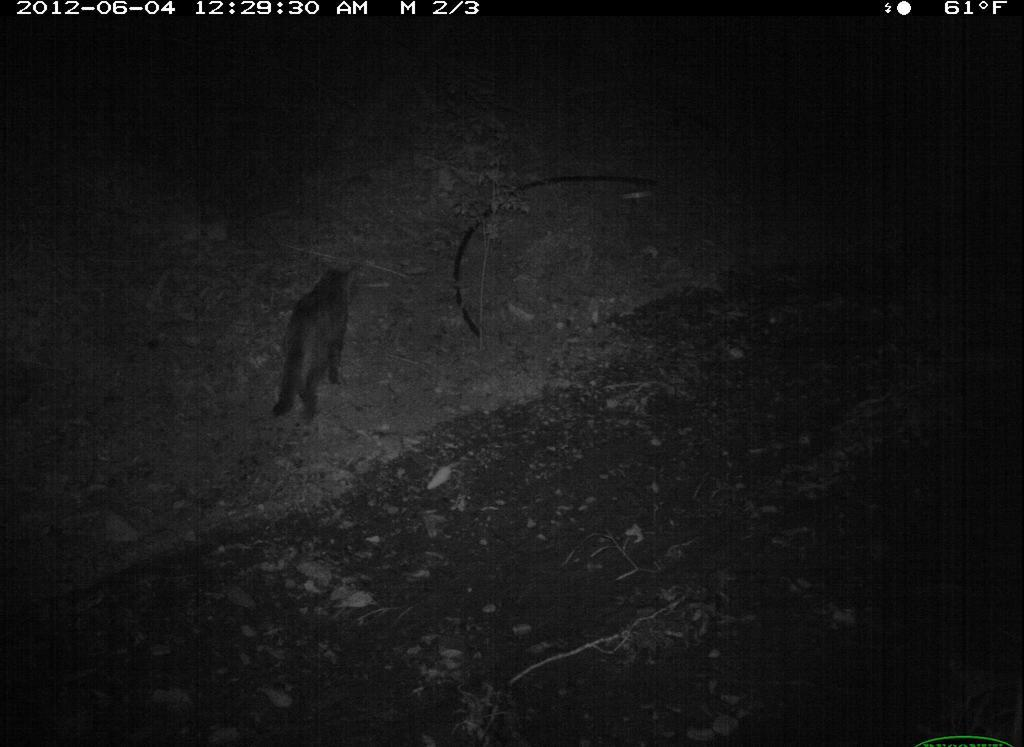cat: (260, 260, 373, 438)
